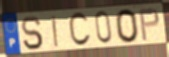0: (94, 10, 114, 47)
C: (67, 11, 92, 49)
I: (50, 14, 59, 49)
O: (114, 8, 140, 44)
P: (138, 7, 161, 42)
S: (20, 15, 45, 51)
